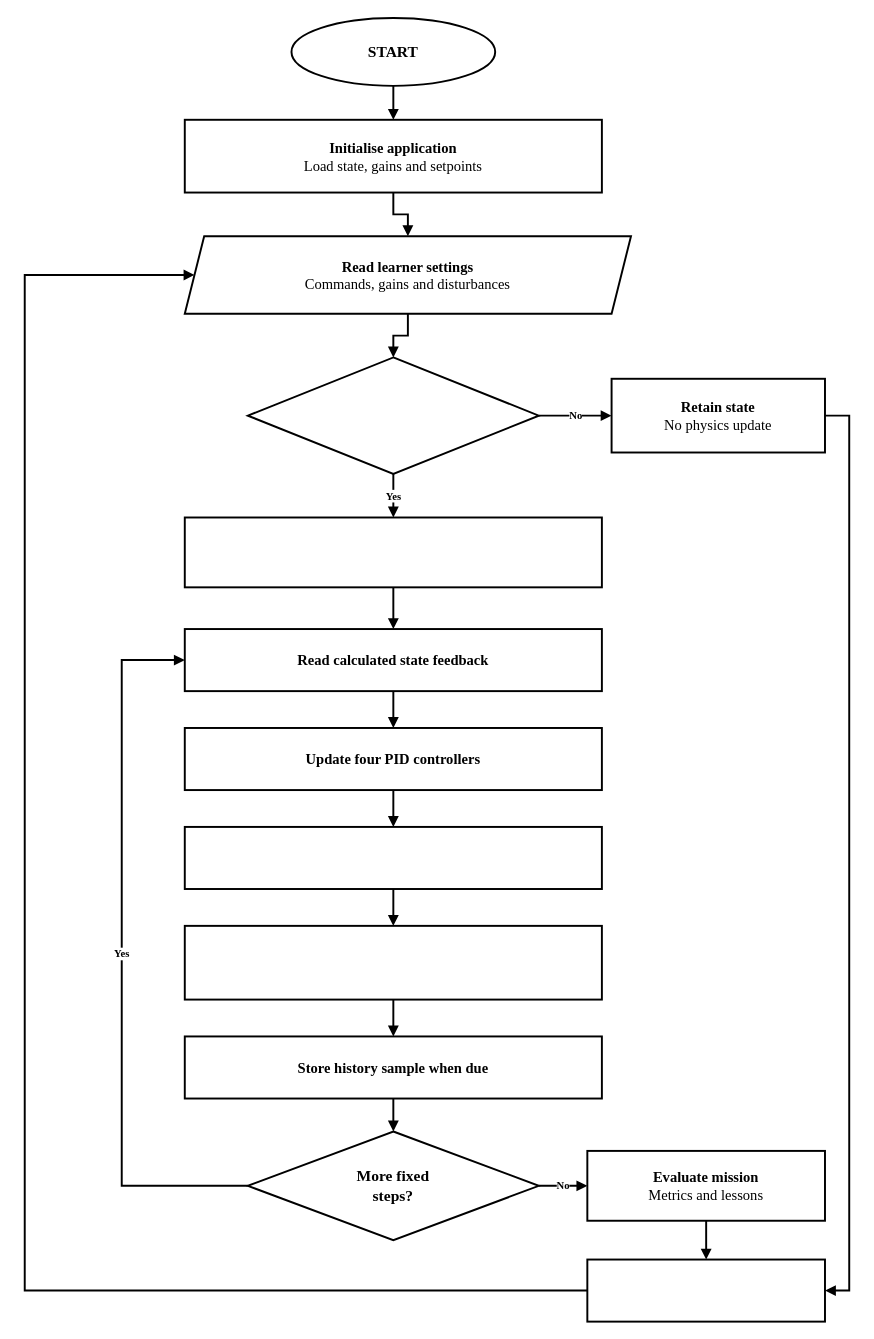
This 874x1339 diagram has some shape labels left out. Here are the shapes that lost their labels. From the top down, the centre of each, then its label:
At [392,415]: "Simulation running?".
At [392,552]: "Determine fixed steps Δt = 0.002 s".
At [392,857]: "Mix and limit motor thrusts".
At [392,962]: "Update quadrotor model Forces, disturbances and RK4".
At [705,1290]: "Update visible outputs".
